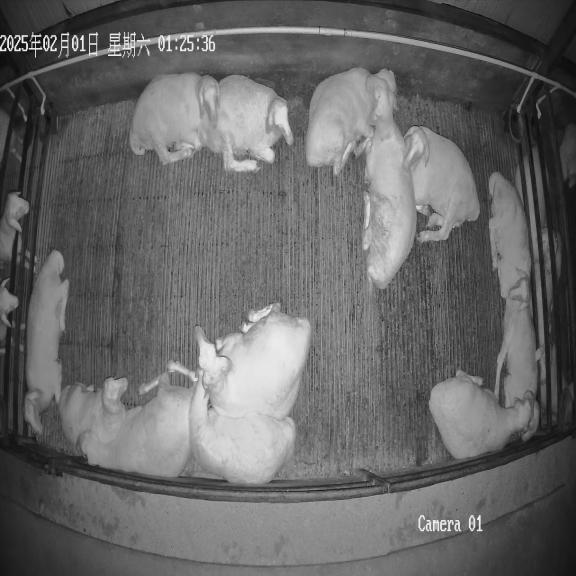lying: (196, 304, 311, 419), (356, 74, 416, 289), (81, 372, 195, 477), (189, 378, 296, 484), (305, 68, 397, 175), (429, 370, 534, 459), (199, 74, 293, 172), (403, 126, 480, 243), (24, 250, 69, 436), (129, 73, 219, 164), (494, 298, 540, 440), (488, 172, 531, 308), (59, 377, 128, 454)
